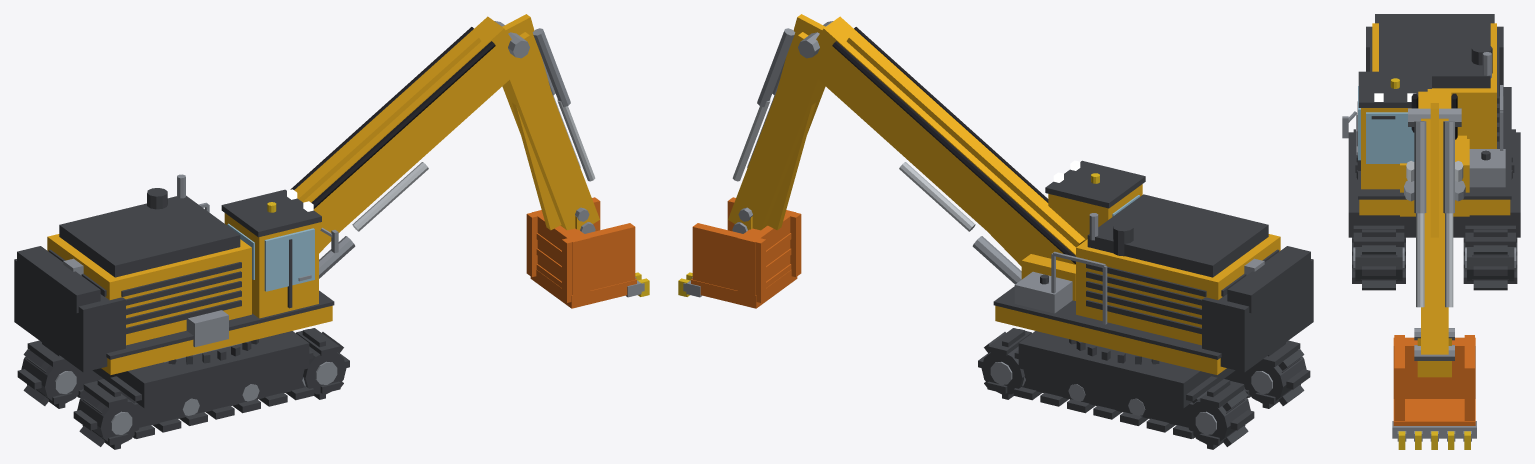
File: excavator.glb
The picture shows the model from 3 angles, left to right: view 1: azimuth 30°, elevation 25°; view 2: azimuth 150°, elevation 25°; view 3: azimuth 270°, elevation 25°; orthographic projection.
Visible parts, largest first — view 1: Excavator_House, Excavator_Base, Excavator_Boom, Excavator_Stick, Excavator_Bucket; view 2: Excavator_House, Excavator_Boom, Excavator_Base, Excavator_Stick, Excavator_Bucket; view 3: Excavator_House, Excavator_Base, Excavator_Stick, Excavator_Bucket, Excavator_Boom.
Boxes of the visible parts, x1,y1,x2,y2 form: Excavator_House: (14, 174, 338, 374); Excavator_Base: (17, 328, 349, 449); Excavator_Boom: (290, 16, 529, 278); Excavator_Stick: (496, 14, 599, 233); Excavator_Bucket: (526, 197, 649, 308); Excavator_House: (993, 160, 1313, 374); Excavator_Boom: (798, 16, 1085, 300); Excavator_Base: (978, 328, 1310, 449); Excavator_Stick: (728, 14, 825, 233); Excavator_Bucket: (678, 197, 801, 308); Excavator_House: (1342, 14, 1511, 215); Excavator_Base: (1348, 129, 1520, 290); Excavator_Stick: (1411, 103, 1458, 360); Excavator_Bucket: (1392, 328, 1476, 449); Excavator_Boom: (1400, 89, 1469, 216).
Size of the model in its own units: 10.28 by 5.02 by 2.72.
